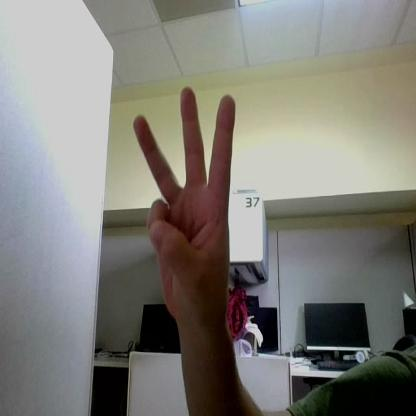W: (134, 86, 235, 322)
